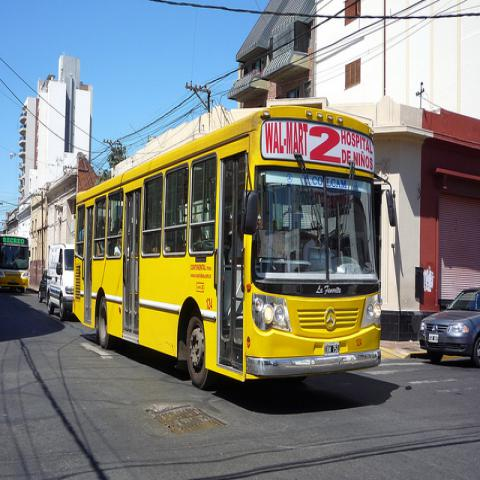bus: (72, 109, 382, 391), (0, 234, 31, 292)
car: (419, 286, 479, 375), (38, 270, 48, 302)
truck: (46, 242, 74, 321)
